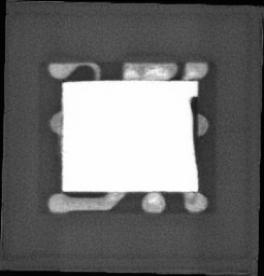DIE_BROKEN: (189, 94, 198, 167)
